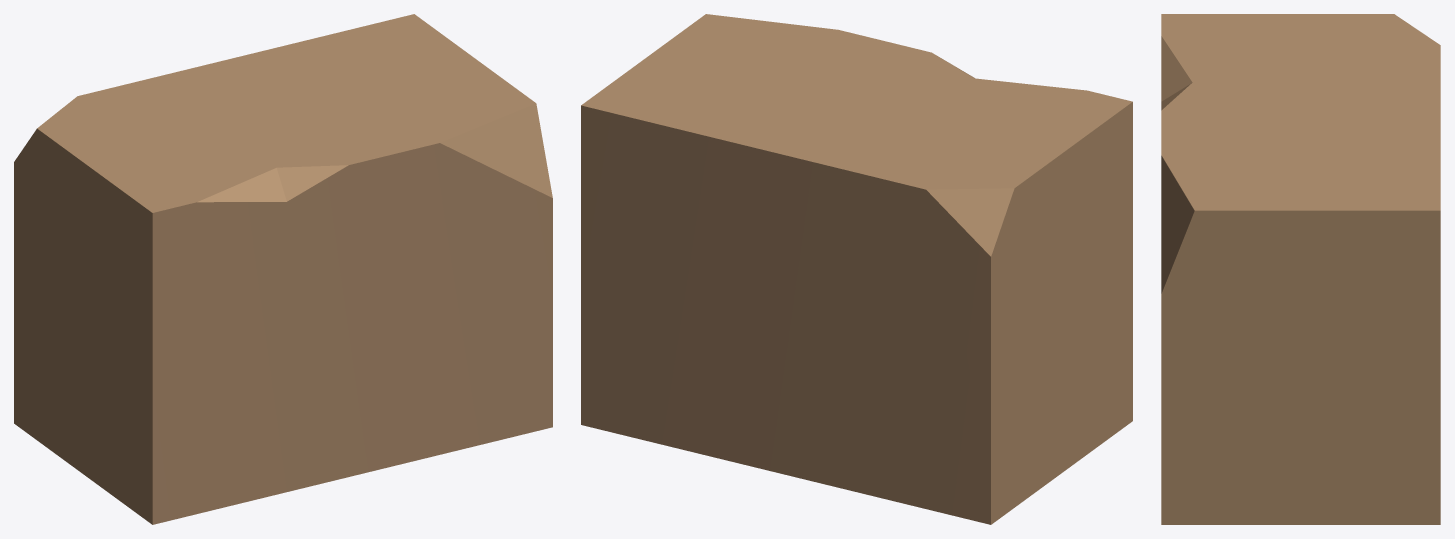
The model's file is castle_ruin_block.gltf.
The picture shows the model from 3 angles, left to right: view 1: azimuth 30°, elevation 25°; view 2: azimuth 150°, elevation 25°; view 3: azimuth 270°, elevation 25°; orthographic projection. The views are drawn at different scales.
Visible parts, largest first — view 1: castle_ruin_block; view 2: castle_ruin_block; view 3: castle_ruin_block.
Boxes of the visible parts, box(x1,y1,x2,y2) form: castle_ruin_block: box(14, 14, 552, 524); castle_ruin_block: box(581, 14, 1132, 524); castle_ruin_block: box(1161, 14, 1440, 524).
Size of the model in its own units: 0.8343 by 0.6212 by 0.5.
1 material, 1 textured.
